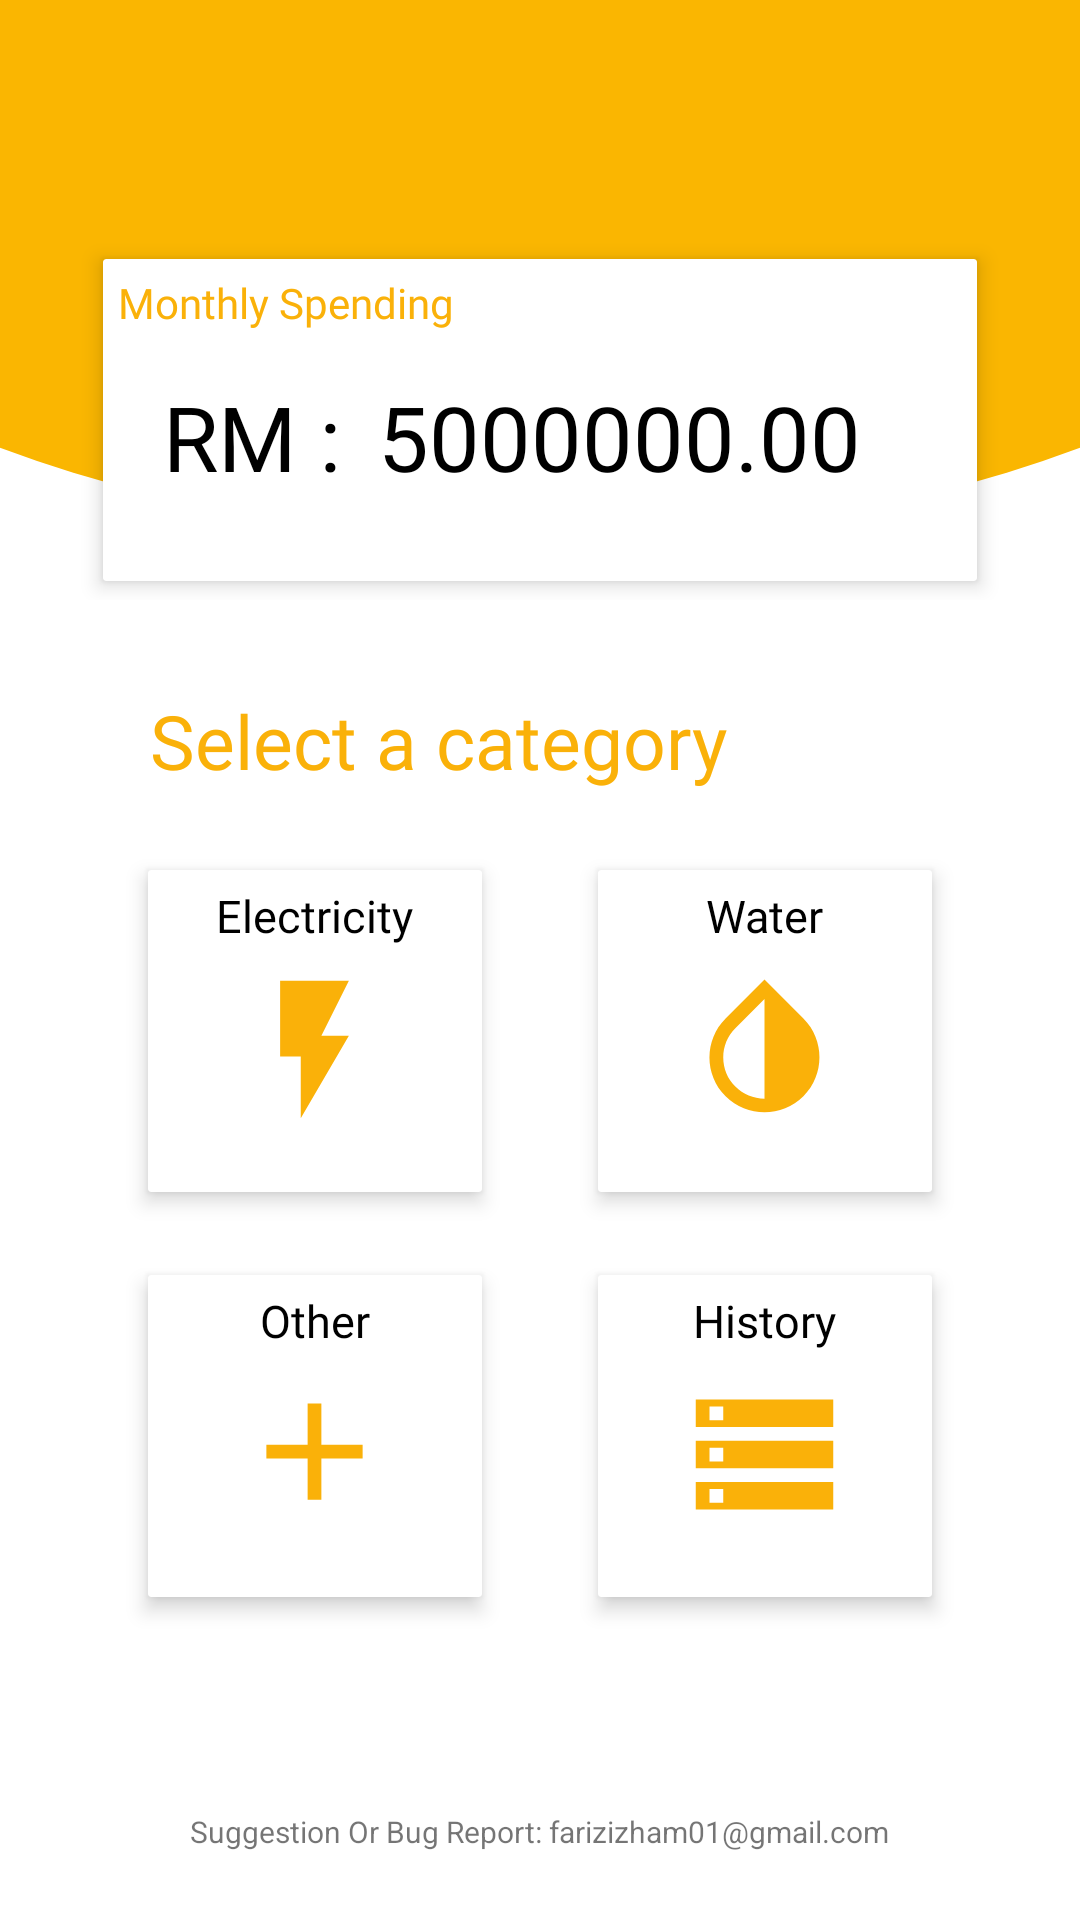

Locate icon controls on the screen. Image size 1080×1920, boxes as (x1, y1, x2, y2).
add: (266, 1403, 363, 1500)
flash on: (280, 980, 349, 1118)
invert colors: (709, 979, 820, 1113)
storage: (695, 1399, 834, 1510)
